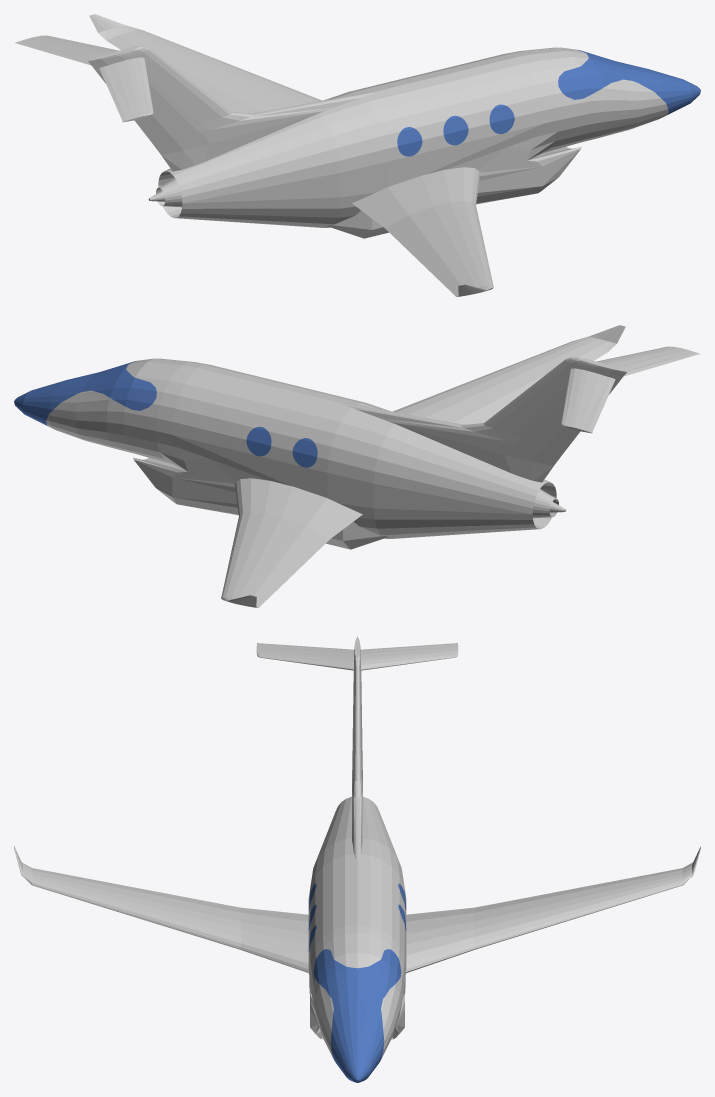
3 views of the same model, one above another, from view 1: azimuth 30°, elevation 25°; view 2: azimuth 150°, elevation 25°; view 3: azimuth 270°, elevation 25° (orthographic). The views are drawn at different scales.
Parts seen in each view (by area): view 1: mesh11.001_mesh11-geometry, mesh4.001_mesh4-geometry, mesh21.001_mesh21-geometry, mesh3.001_mesh3-geometry, mesh24.003_mesh24-geometry, mesh1.002_mesh1-geometry, mesh22.002_mesh22-geometry, mesh28.002_mesh28-geometry, mesh9.002_mesh9-geometry, mesh8.002_mesh8-geometry, mesh7.002_mesh7-geometry; view 2: mesh11.001_mesh11-geometry, mesh3.001_mesh3-geometry, mesh21.001_mesh21-geometry, mesh4.001_mesh4-geometry, mesh5.002_mesh5-geometry, mesh23.003_mesh23-geometry, mesh22.002_mesh22-geometry, mesh1.002_mesh1-geometry, mesh26.002_mesh26-geometry, mesh10.002_mesh10-geometry, mesh6.002_mesh6-geometry; view 3: mesh11.001_mesh11-geometry, mesh4.001_mesh4-geometry, mesh3.001_mesh3-geometry, mesh24.003_mesh24-geometry, mesh23.003_mesh23-geometry, mesh21.001_mesh21-geometry, mesh22.002_mesh22-geometry, mesh1.002_mesh1-geometry, mesh5.002_mesh5-geometry.
Boxes of the visible parts, x1=… form: mesh11.001_mesh11-geometry: x1=148, y1=47, x2=668, y2=227; mesh4.001_mesh4-geometry: x1=352, y1=167, x2=493, y2=296; mesh21.001_mesh21-geometry: x1=88, y1=46, x2=374, y2=171; mesh3.001_mesh3-geometry: x1=89, y1=14, x2=322, y2=113; mesh24.003_mesh24-geometry: x1=558, y1=53, x2=700, y2=114; mesh1.002_mesh1-geometry: x1=99, y1=57, x2=153, y2=122; mesh22.002_mesh22-geometry: x1=14, y1=35, x2=118, y2=65; mesh28.002_mesh28-geometry: x1=327, y1=210, x2=388, y2=238; mesh9.002_mesh9-geometry: x1=443, y1=115, x2=468, y2=145; mesh8.002_mesh8-geometry: x1=397, y1=127, x2=422, y2=156; mesh7.002_mesh7-geometry: x1=489, y1=104, x2=514, y2=133; mesh11.001_mesh11-geometry: x1=46, y1=358, x2=566, y2=538; mesh3.001_mesh3-geometry: x1=221, y1=478, x2=362, y2=607; mesh21.001_mesh21-geometry: x1=340, y1=357, x2=626, y2=482; mesh4.001_mesh4-geometry: x1=392, y1=325, x2=625, y2=424; mesh5.002_mesh5-geometry: x1=190, y1=383, x2=246, y2=479; mesh23.003_mesh23-geometry: x1=14, y1=364, x2=156, y2=425; mesh22.002_mesh22-geometry: x1=561, y1=368, x2=615, y2=433; mesh1.002_mesh1-geometry: x1=596, y1=346, x2=700, y2=376; mesh26.002_mesh26-geometry: x1=326, y1=521, x2=387, y2=549; mesh10.002_mesh10-geometry: x1=292, y1=438, x2=317, y2=467; mesh6.002_mesh6-geometry: x1=246, y1=426, x2=271, y2=456; mesh11.001_mesh11-geometry: x1=308, y1=796, x2=406, y2=1062; mesh4.001_mesh4-geometry: x1=14, y1=846, x2=308, y2=973; mesh3.001_mesh3-geometry: x1=406, y1=846, x2=700, y2=973; mesh24.003_mesh24-geometry: x1=313, y1=949, x2=357, y2=1082; mesh23.003_mesh23-geometry: x1=357, y1=949, x2=401, y2=1082; mesh21.001_mesh21-geometry: x1=352, y1=636, x2=362, y2=859; mesh22.002_mesh22-geometry: x1=361, y1=643, x2=458, y2=670; mesh1.002_mesh1-geometry: x1=256, y1=643, x2=353, y2=670; mesh5.002_mesh5-geometry: x1=373, y1=901, x2=406, y2=959.
Size of the model in its own units: 0.6834 by 0.2368 by 0.6906.
